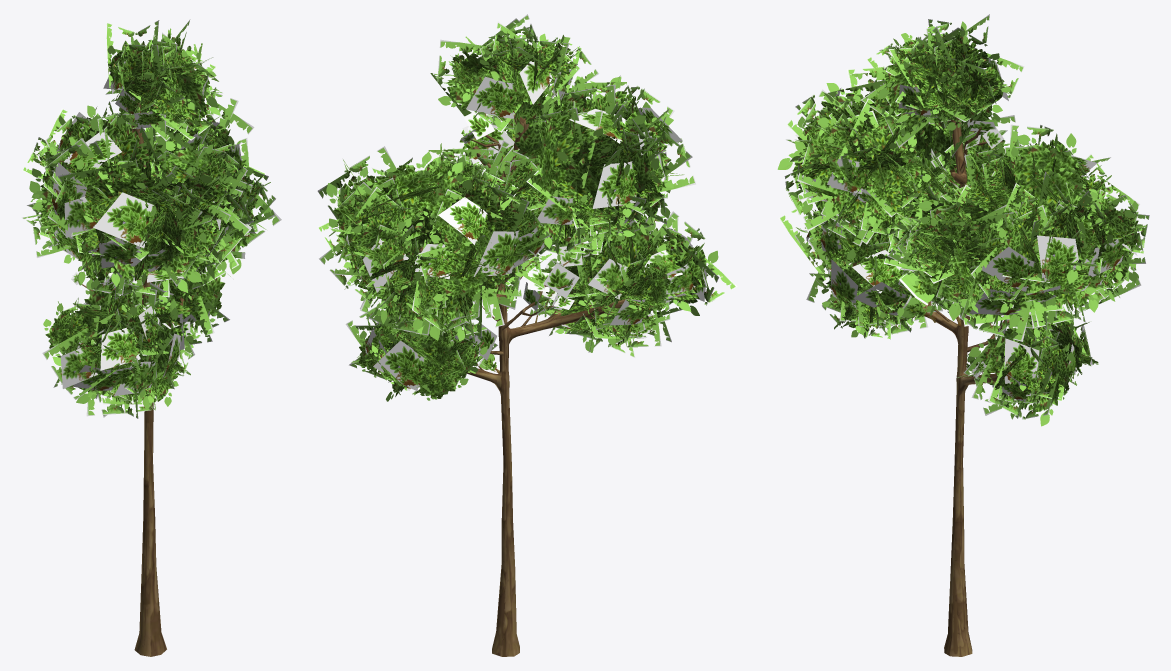
The model's file is Arbol1_Base_Cafe.fbx.
The picture shows the model from 3 angles, left to right: view 1: azimuth 30°, elevation 25°; view 2: azimuth 150°, elevation 25°; view 3: azimuth 270°, elevation 25°; orthographic projection.
Parts seen in each view (by area): view 1: Plane.200; view 2: Plane.200; view 3: Plane.200.
Part boxes in pixels (bbox=[...]): Plane.200: bbox=[22, 19, 281, 656]; Plane.200: bbox=[317, 14, 737, 656]; Plane.200: bbox=[777, 14, 1149, 656].
Size of the model in its own units: 1858 by 3635 by 2045.
